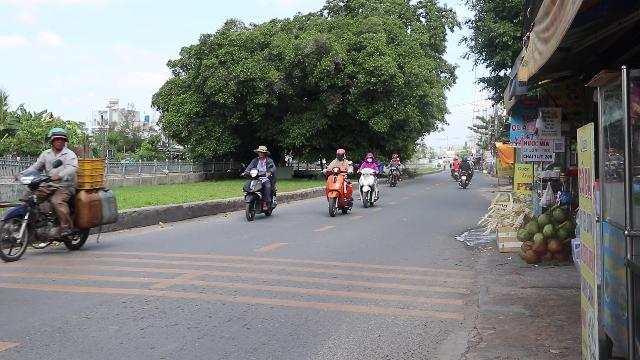helmet: (47, 127, 69, 150), (334, 148, 346, 160)
motorcyclist: (1, 126, 121, 262), (239, 144, 279, 219), (320, 148, 354, 216)
nohelmet: (254, 145, 270, 161)
